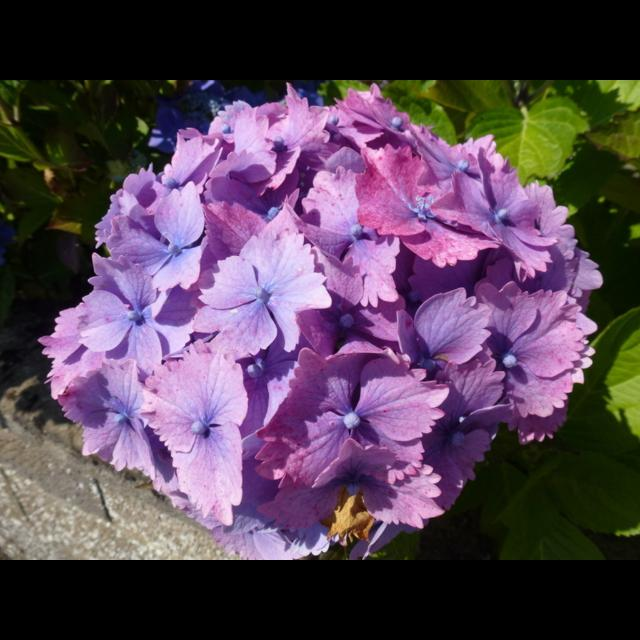Flower: (56, 101, 592, 544)
